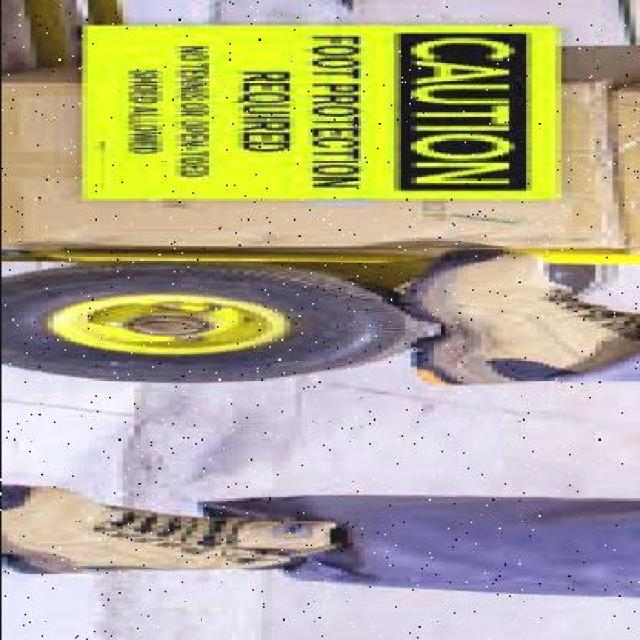shoes: (399, 249, 636, 393), (1, 484, 317, 576)
